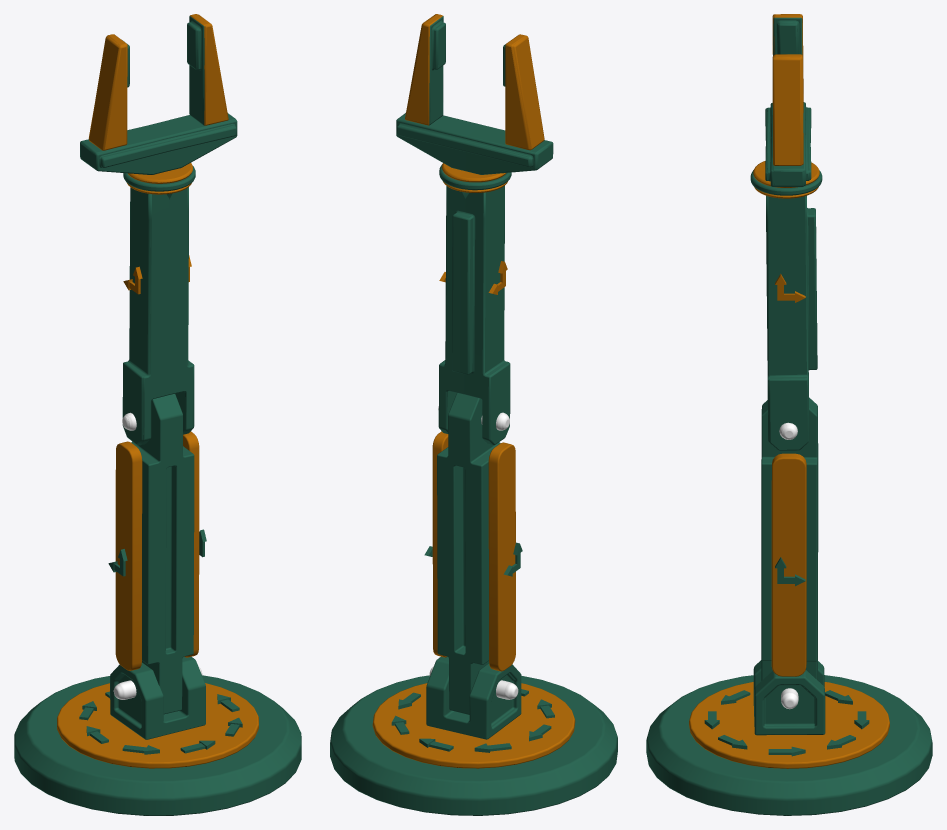
File: 3-action-robot-armv5.fbx
3 views of the same model, side by side, from view 1: azimuth 30°, elevation 25°; view 2: azimuth 150°, elevation 25°; view 3: azimuth 270°, elevation 25° (orthographic).
Visible parts, largest first — view 1: armBase, arm1, arm0; view 2: armBase, arm1, arm0; view 3: armBase, arm1, arm0.
Part boxes in pixels (left/top/right/bottom): armBase: left=14, top=656, right=301, bottom=815; arm1: left=80, top=14, right=237, bottom=445; arm0: left=108, top=394, right=206, bottom=714; armBase: left=330, top=656, right=617, bottom=815; arm1: left=396, top=14, right=553, bottom=445; arm0: left=424, top=393, right=522, bottom=714; armBase: left=646, top=660, right=932, bottom=815; arm1: left=750, top=14, right=822, bottom=450; arm0: left=761, top=397, right=818, bottom=680.
Bounding box in the file's own units: 200 × 556 × 200.
